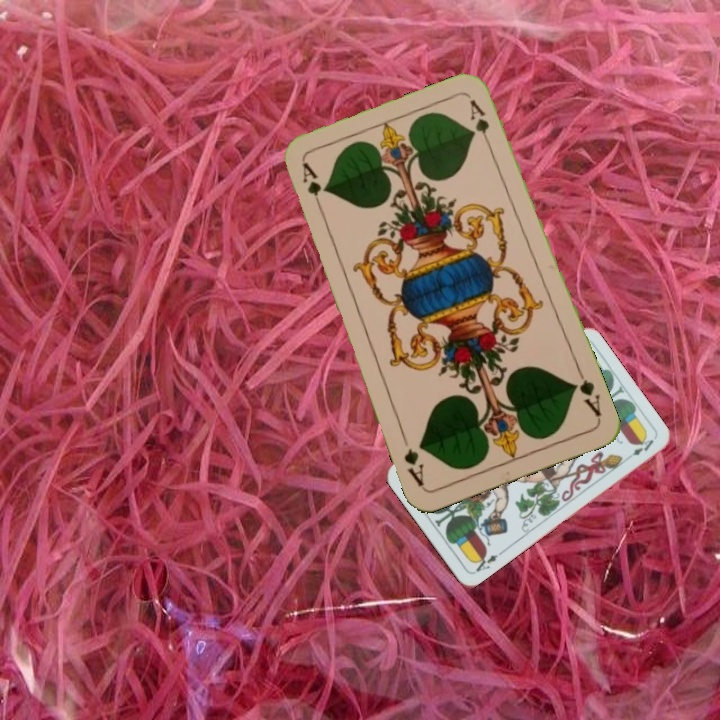EA: (470, 549, 501, 576)
GA: (568, 365, 604, 419), (298, 158, 327, 216)
